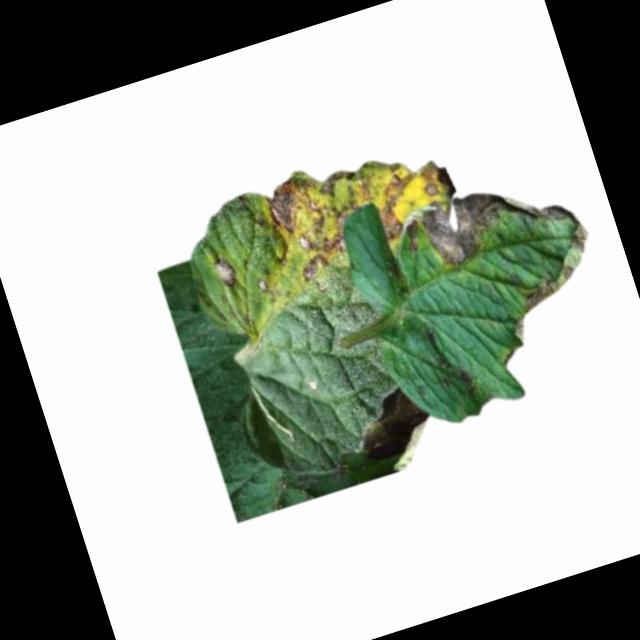Early_blight: (260, 127, 460, 285), (398, 164, 573, 278), (490, 223, 617, 347), (348, 382, 439, 481), (214, 258, 242, 293)
